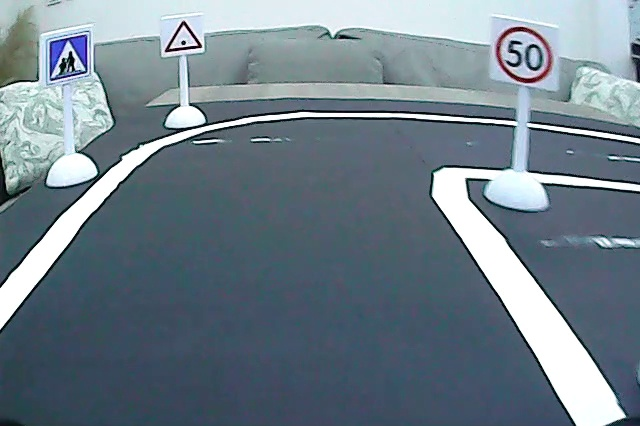green light: (163, 18, 205, 55)
school crossing: (45, 31, 92, 80)
speed limit 50: (493, 24, 556, 88)
